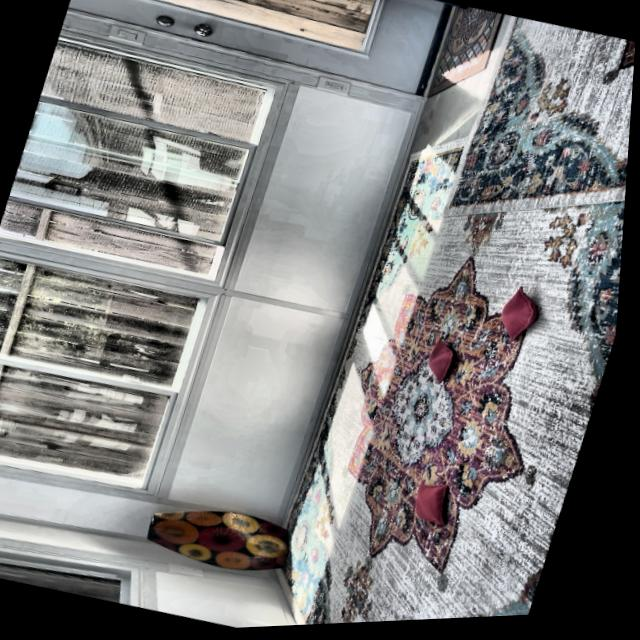red-bean-bag: (496, 286, 547, 351), (413, 481, 460, 531), (425, 340, 463, 388)
